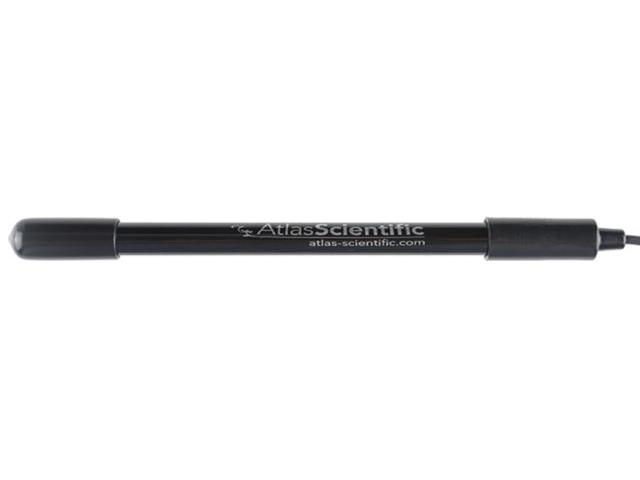PEN: (0, 188, 640, 289)
